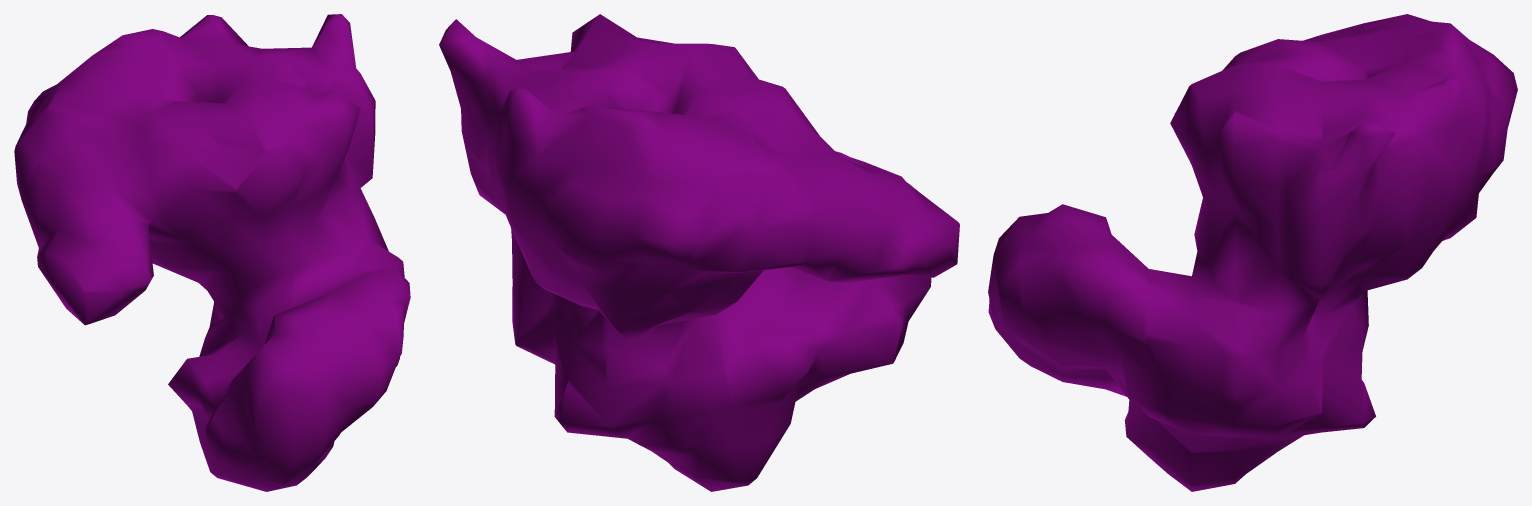
File: Vesicle_8Ato10CAlignedTrimer3.fbx
The picture shows the model from 3 angles, left to right: view 1: azimuth 30°, elevation 25°; view 2: azimuth 150°, elevation 25°; view 3: azimuth 270°, elevation 25°; orthographic projection. The views are drawn at different scales.
Visible parts, largest first — view 1: vesicle_MeshVes8Mesh; view 2: vesicle_MeshVes8Mesh; view 3: vesicle_MeshVes8Mesh.
Part boxes in pixels (x1=…): vesicle_MeshVes8Mesh: x1=14, y1=14, x2=410, y2=491; vesicle_MeshVes8Mesh: x1=439, y1=14, x2=959, y2=491; vesicle_MeshVes8Mesh: x1=988, y1=14, x2=1517, y2=491.
Bounding box in the file's own units: 72.83 × 75.32 × 81.55.
